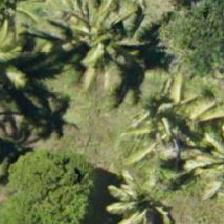coconut_tree: (110, 83, 200, 173), (94, 155, 184, 223)
